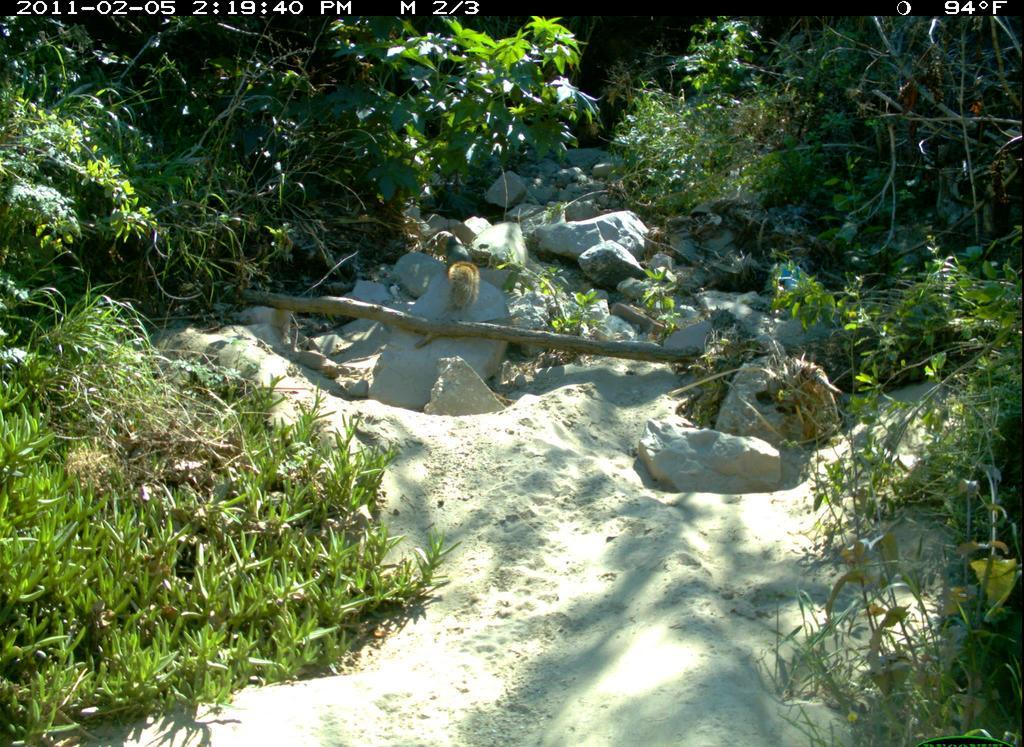squirrel: (432, 232, 486, 321)
